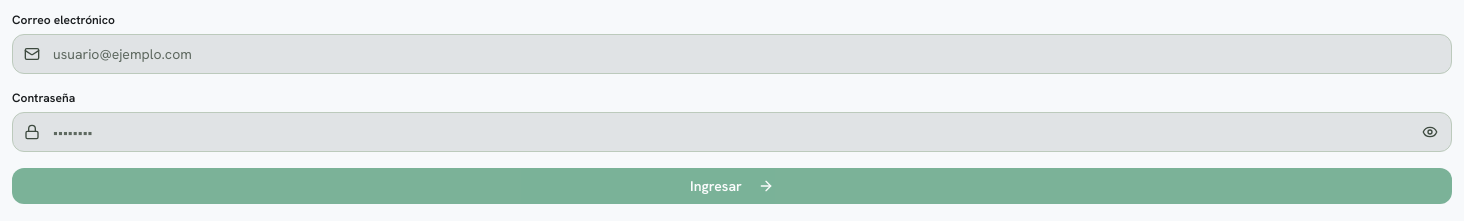
Scenario: LoginForm — input controlado › typear email y password → boton Ingresar se habilita
In the field labelled "Correo electrónico": coordinates (732, 54) [12,34,1452,74], type "user@example.com"
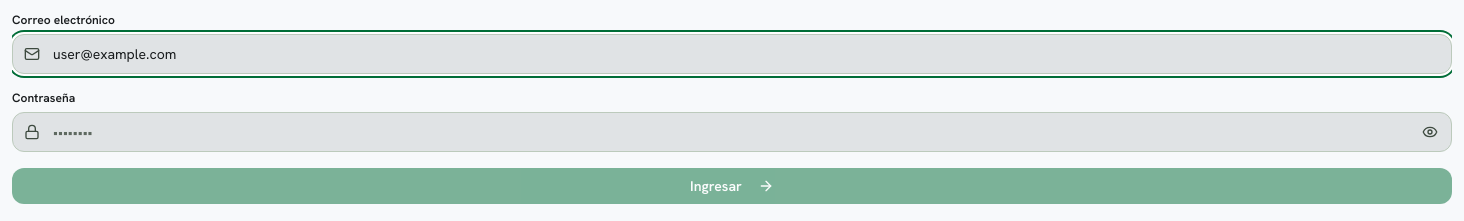
In the password field labelled "Contraseña": coordinates (732, 132) [12,112,1452,152], type "secret123"
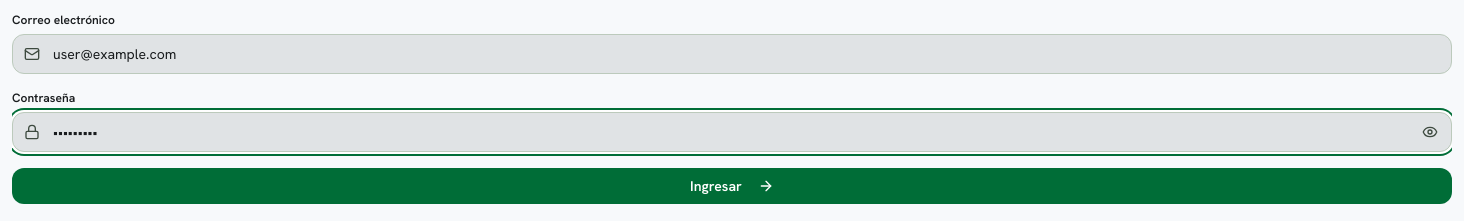
Now the button "Ingresar" is enabled, box [12,168,1452,204]
